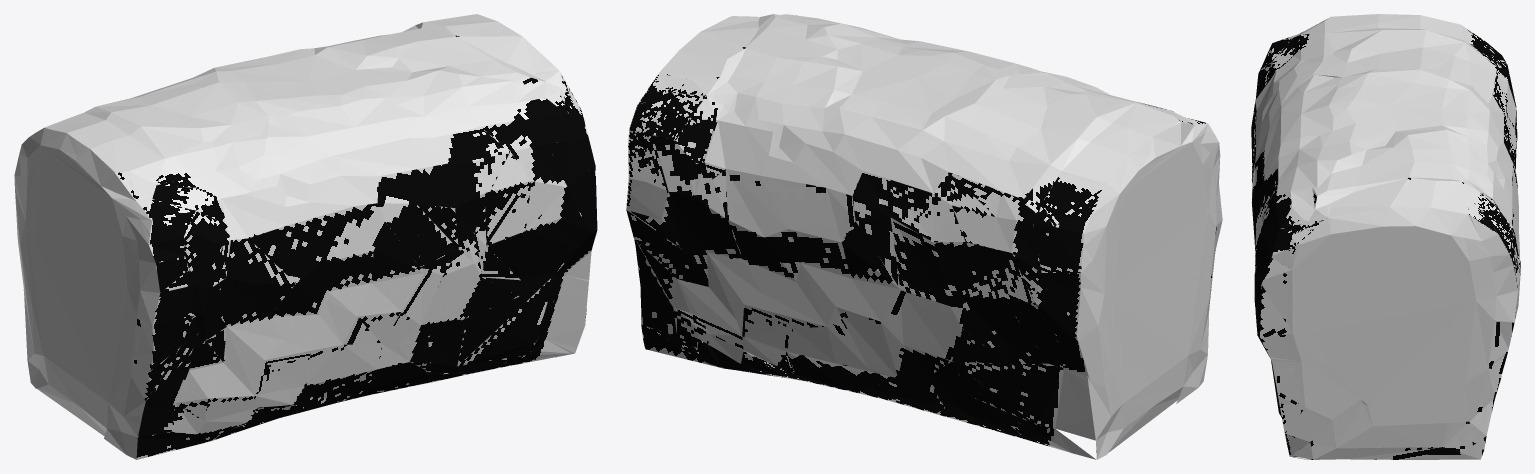
3 views of the same model, side by side, from view 1: azimuth 30°, elevation 25°; view 2: azimuth 150°, elevation 25°; view 3: azimuth 270°, elevation 25° (orthographic). The views are drawn at different scales.
Visible parts, largest first — view 1: OBJ0b1; view 2: OBJ0b1; view 3: OBJ0b1.
Part boxes in pixels (x1,y1,x2,y2): OBJ0b1: (14,14,597,459); OBJ0b1: (626,14,1222,459); OBJ0b1: (1251,14,1520,459).
Bounding box in the file's own units: 0.3712 × 0.2241 × 0.2092.
1 material, 1 textured.
